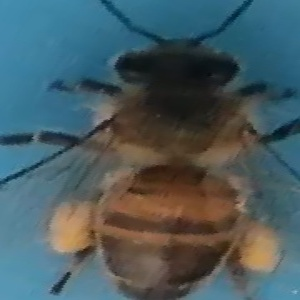bee: (20, 3, 293, 300)
